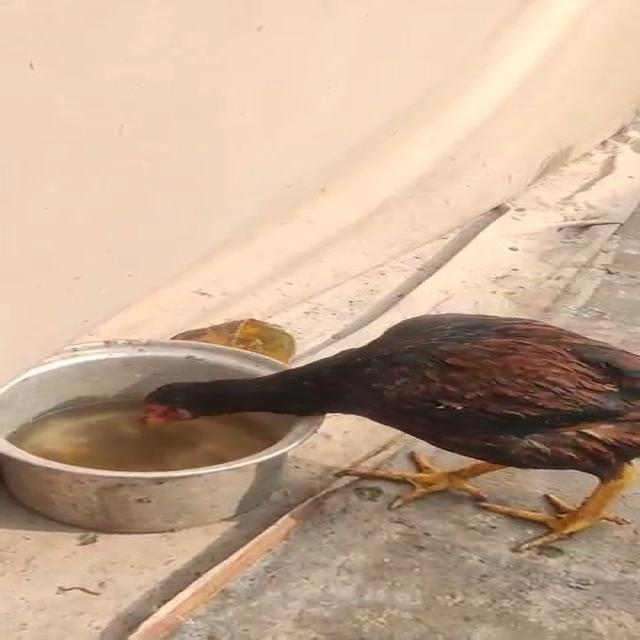drinking: (142, 310, 640, 544)
